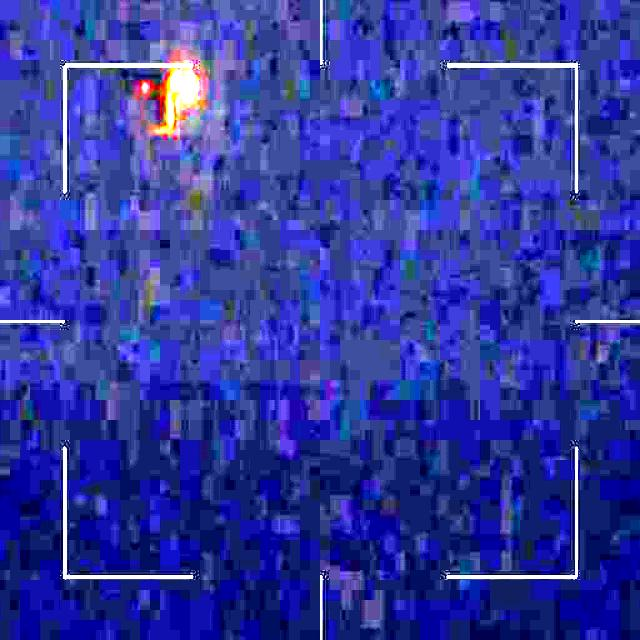bird: (131, 64, 200, 151)
